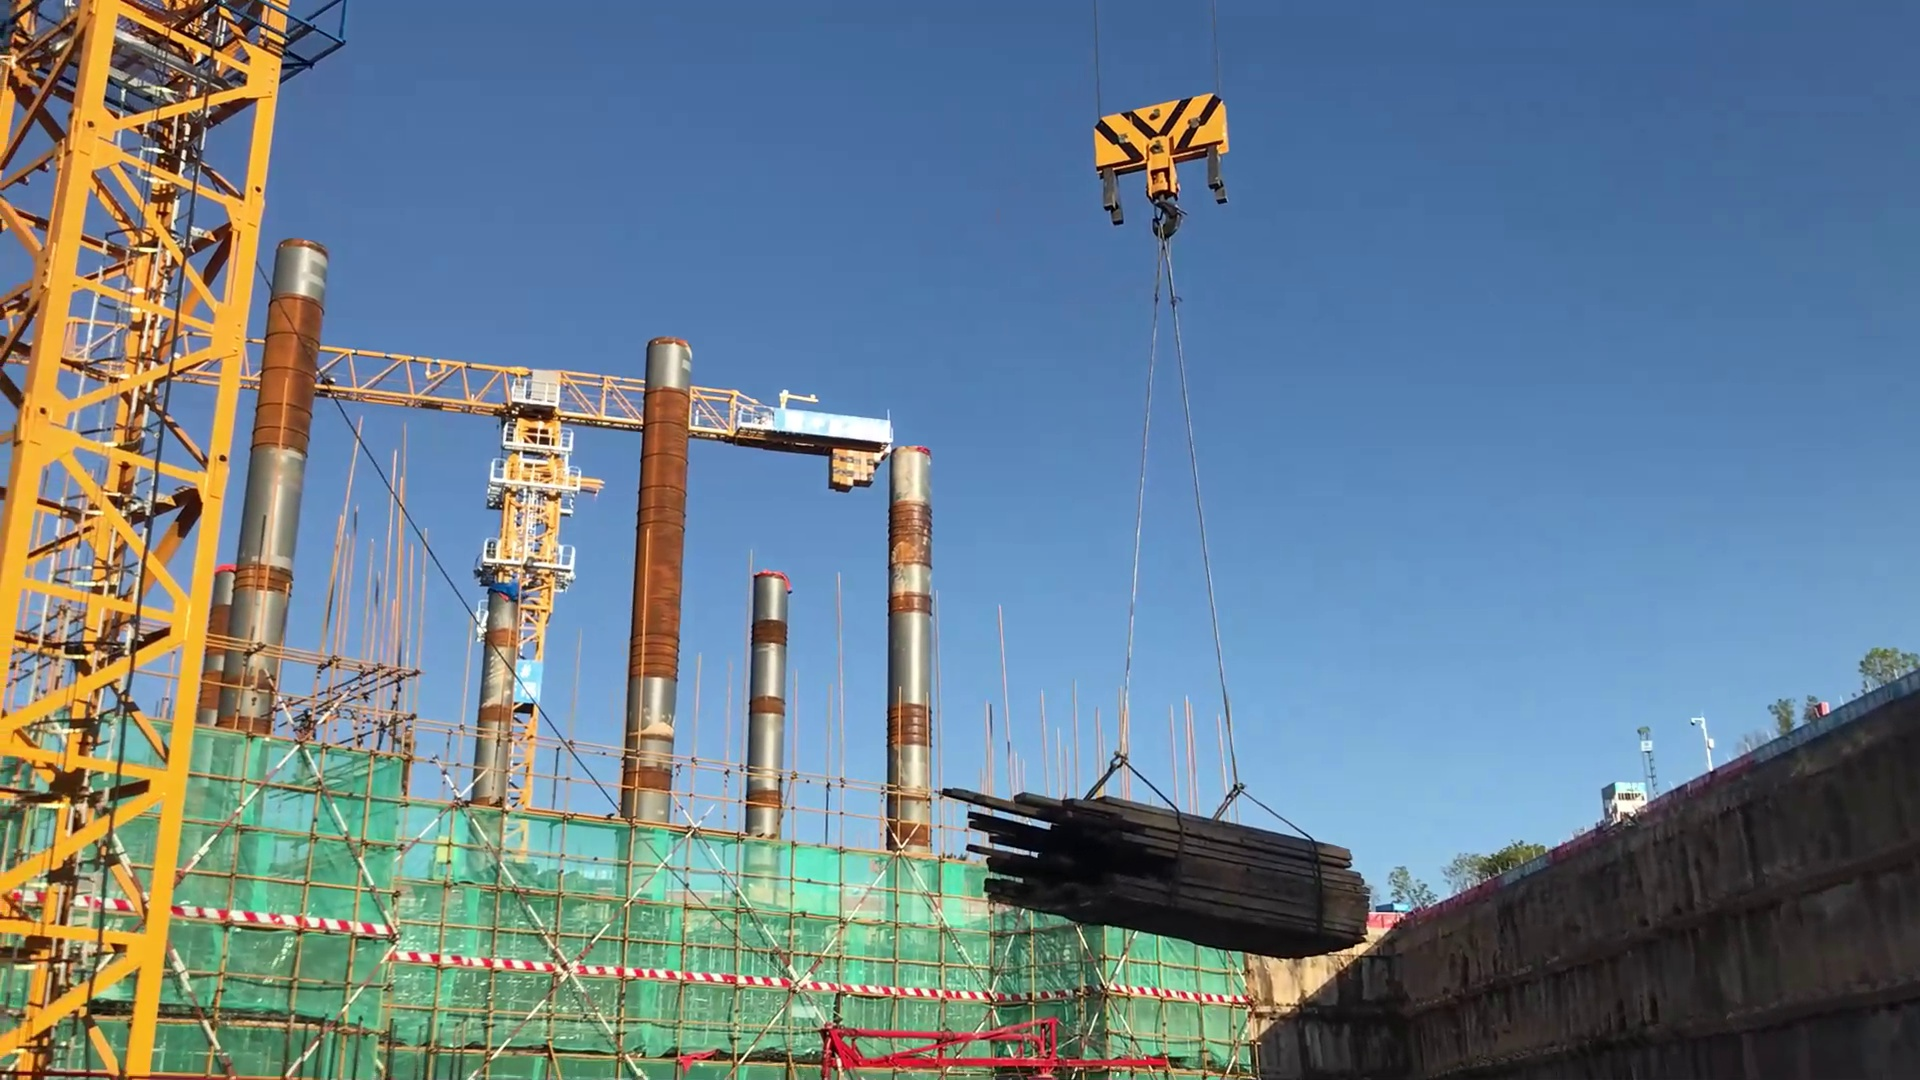hook: (1087, 88, 1236, 243)
wood: (940, 775, 1374, 964)
